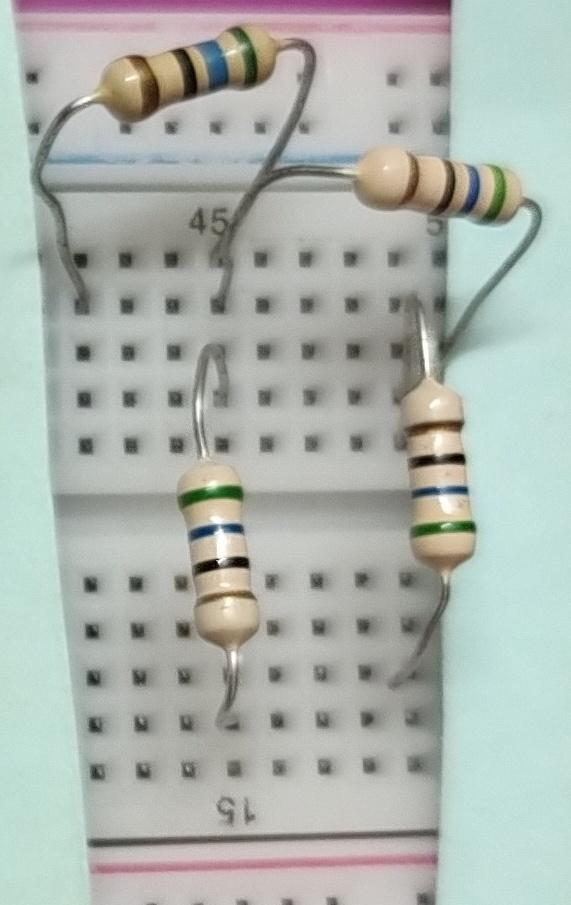resistor: (375, 360, 505, 582), (165, 440, 282, 662), (335, 125, 542, 248), (92, 20, 285, 140)
